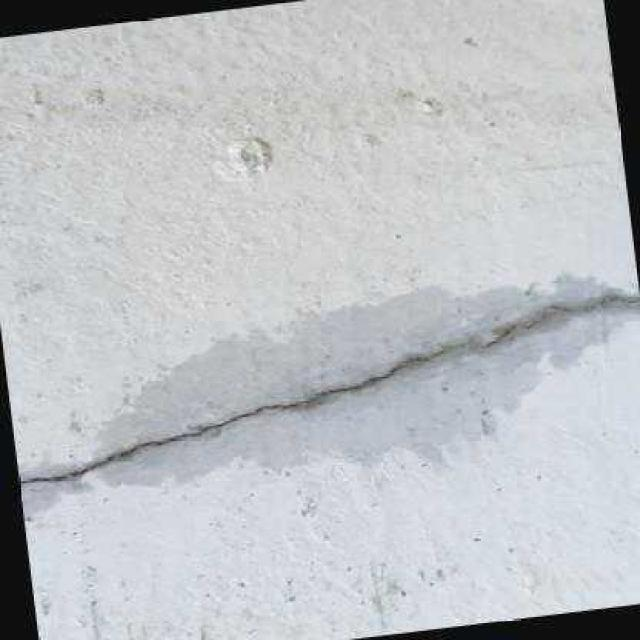D00: (17, 295, 640, 486)
